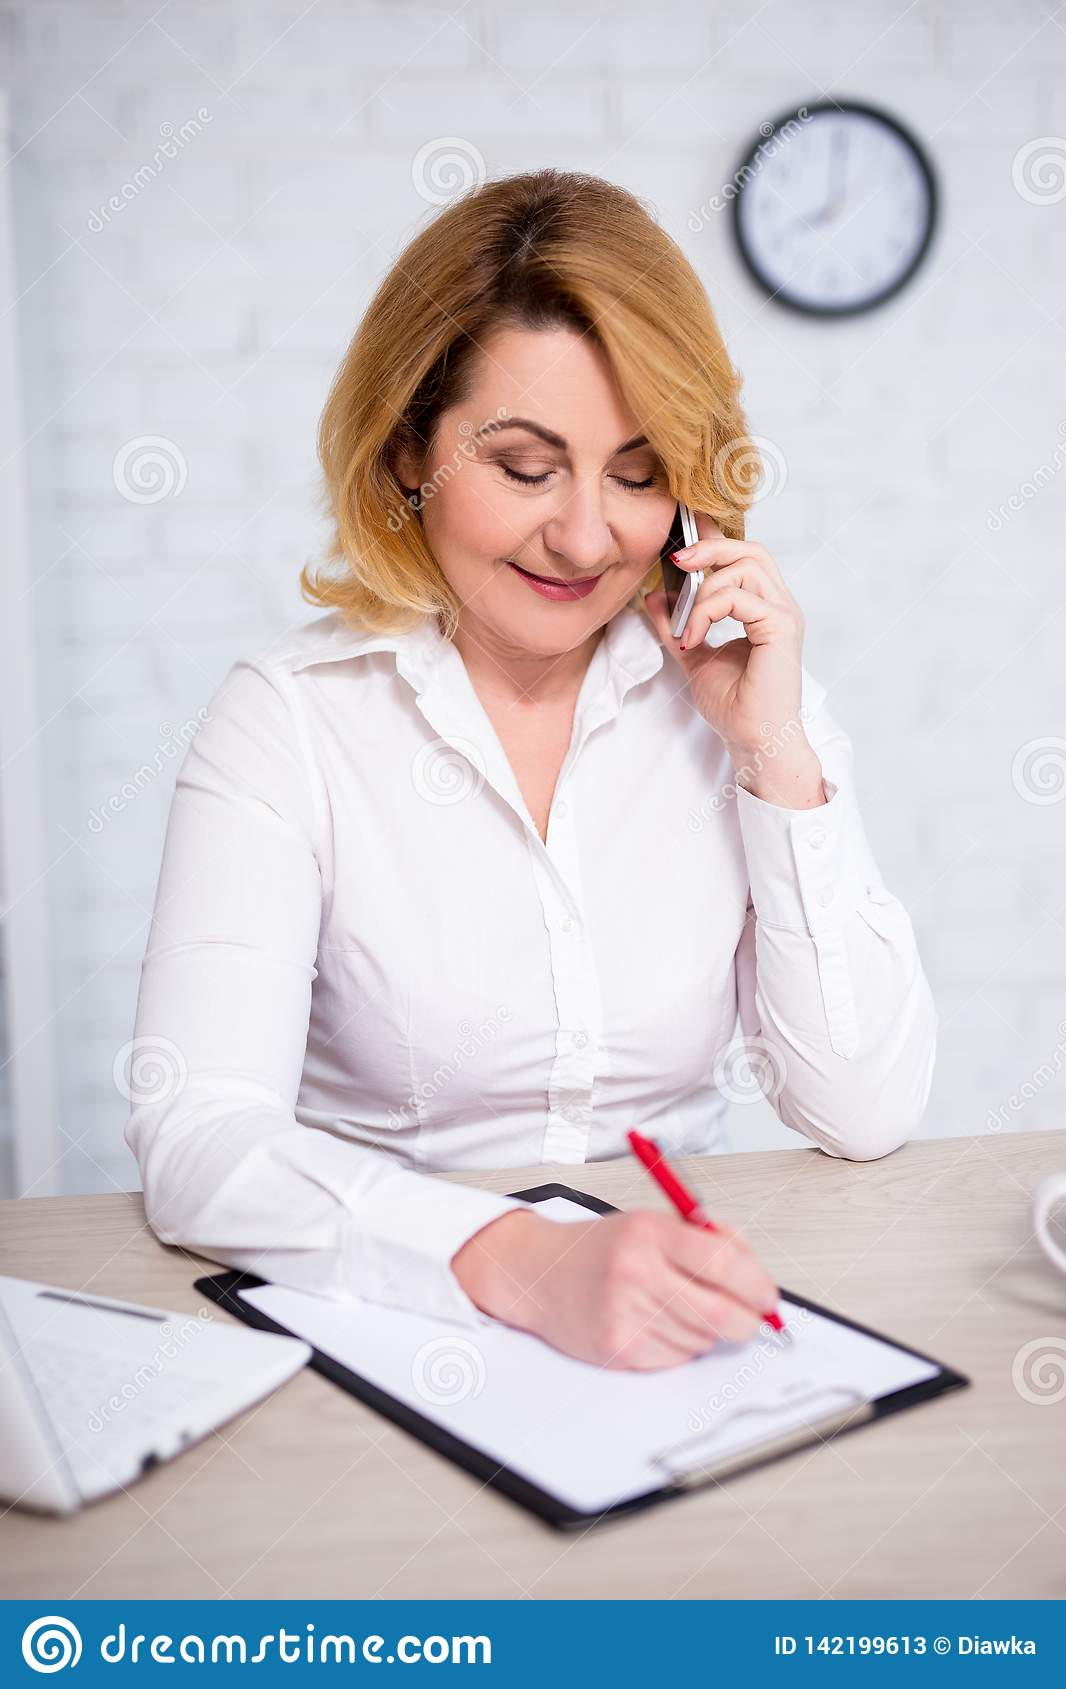phone: (656, 496, 709, 646)
talk: (456, 392, 804, 760)
